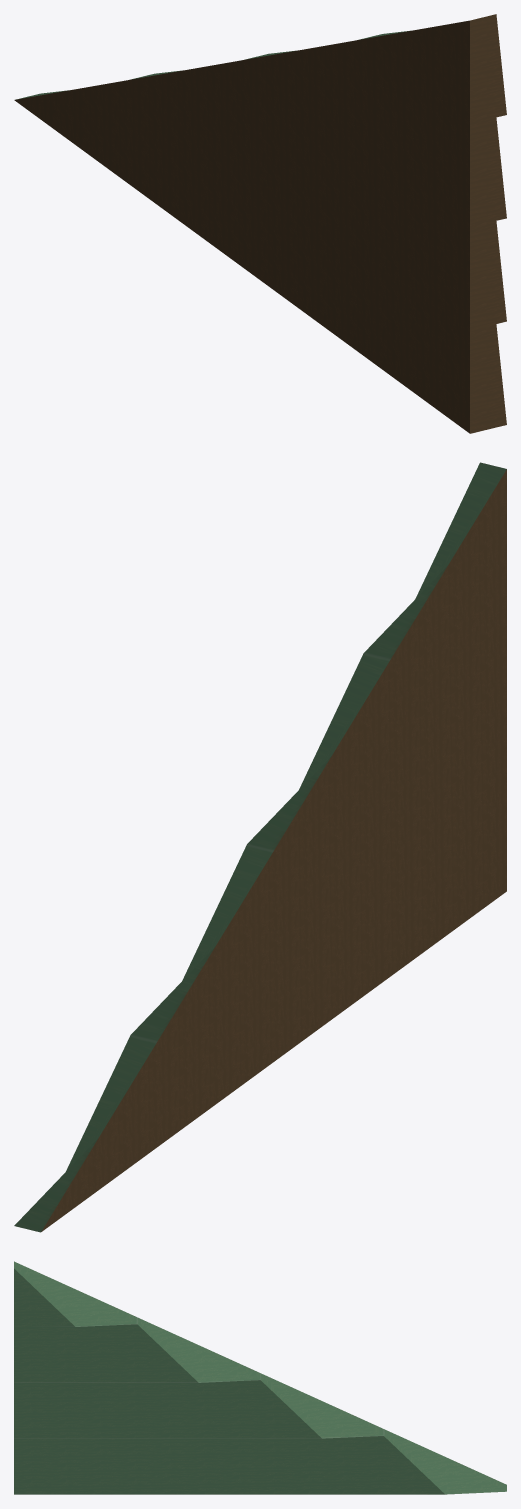
The model's file is 26LSlopeWall.fbx.
The picture shows the model from 3 angles, top to bottom: view 1: azimuth 30°, elevation 25°; view 2: azimuth 150°, elevation 25°; view 3: azimuth 270°, elevation 25°; orthographic projection. The views are drawn at different scales.
Visible parts, largest first — view 1: 26LSlopeWall; view 2: 26LSlopeWall; view 3: 26LSlopeWall.
Boxes of the visible parts, x1=… form: 26LSlopeWall: x1=14, y1=14, x2=506, y2=433; 26LSlopeWall: x1=14, y1=462, x2=506, y2=1232; 26LSlopeWall: x1=14, y1=1261, x2=506, y2=1494.
Size of the model in its own units: 14.77 by 158 by 316.
